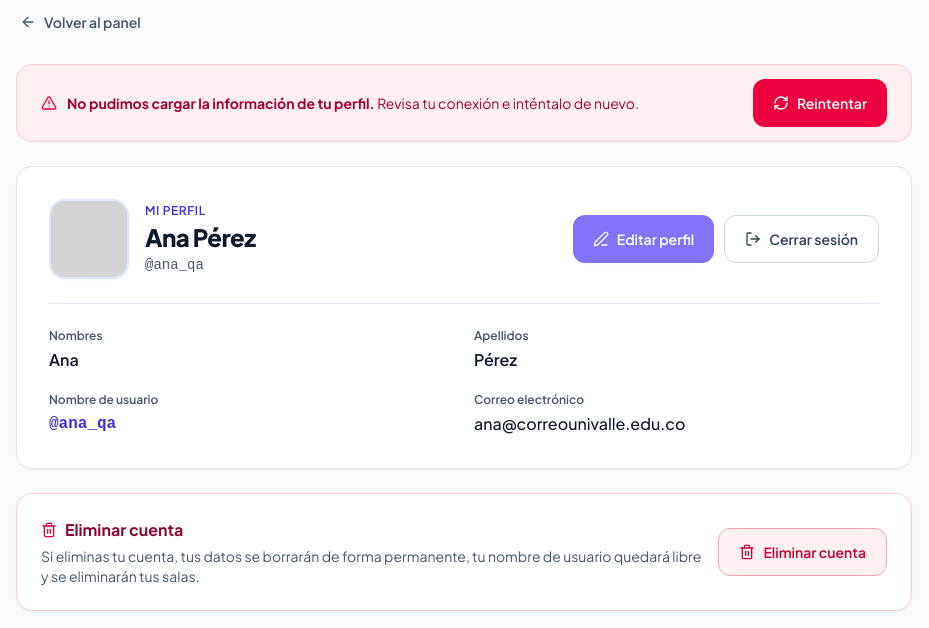
it: US-04 | carga del perfil › si falla la carga ofrece «Reintentar» y vuelve a pedir los datos
Expected: the text "No pudimos cargar la información de tu perfil." is shown, [67, 94, 375, 112]
Expected: the button "Editar perfil" is disabled, [573, 215, 714, 263]
Click the button "Reintentar": (820, 103) [753, 79, 887, 127]
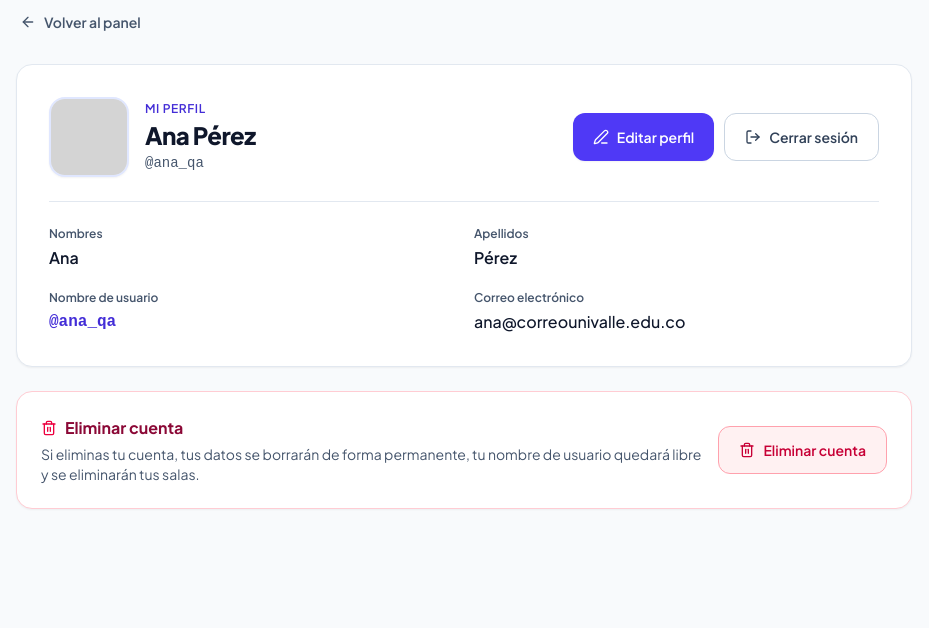
Expected: the button "Editar perfil" is enabled, [573, 113, 714, 161]
Expected: the text "No pudimos cargar" is gone
